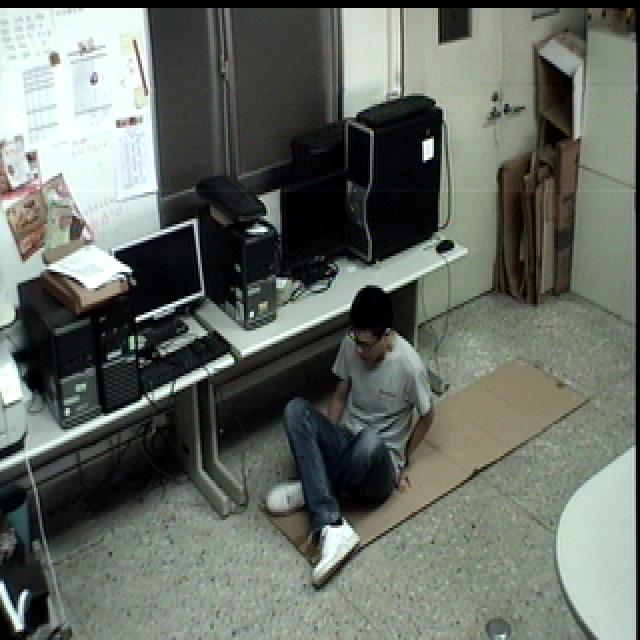sit: (256, 274, 436, 588)
